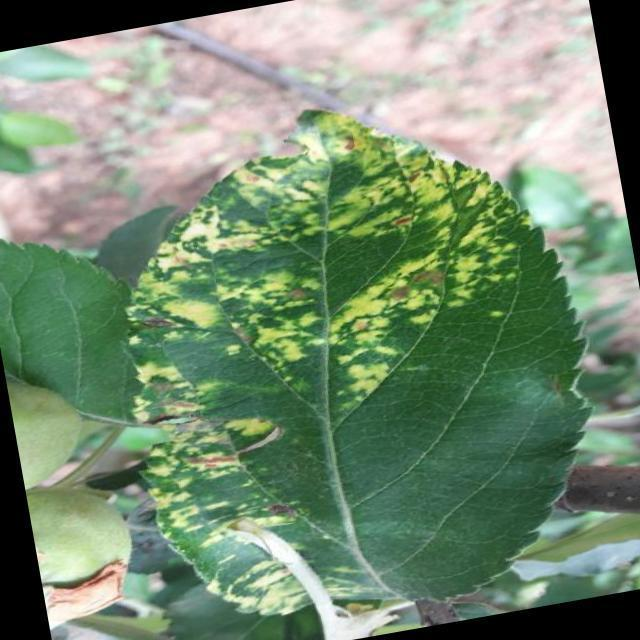Mosaic Virus: (87, 112, 574, 638)
